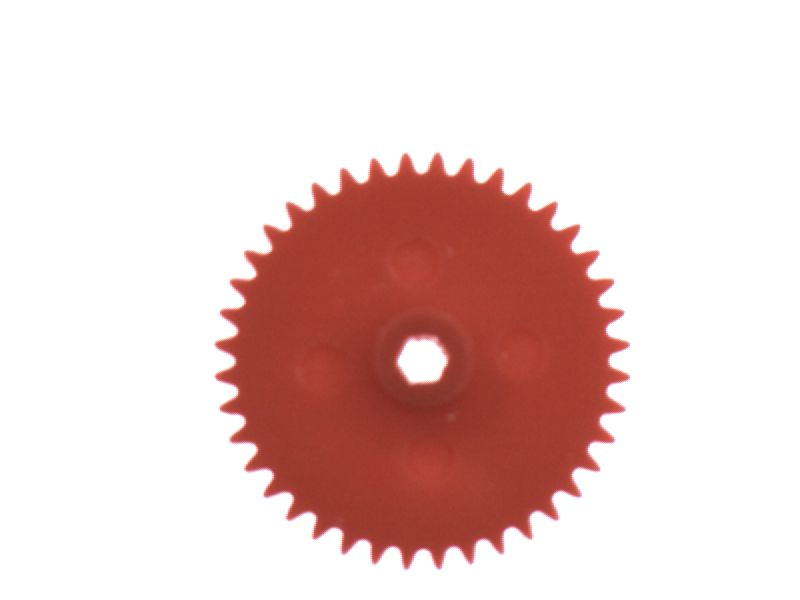good_product: (201, 141, 639, 581)
